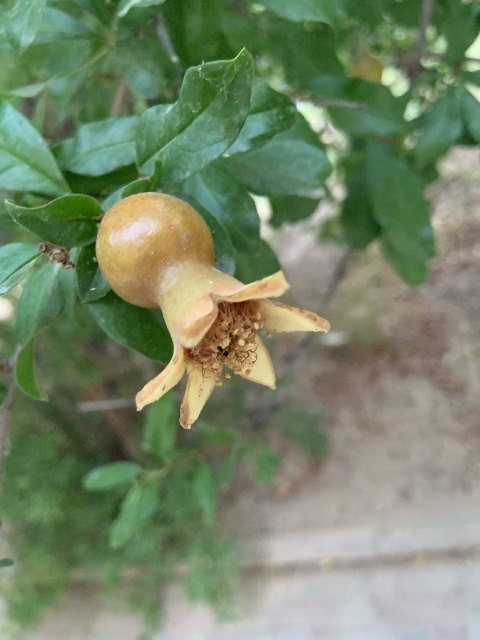early-fruit: (94, 193, 327, 430)
